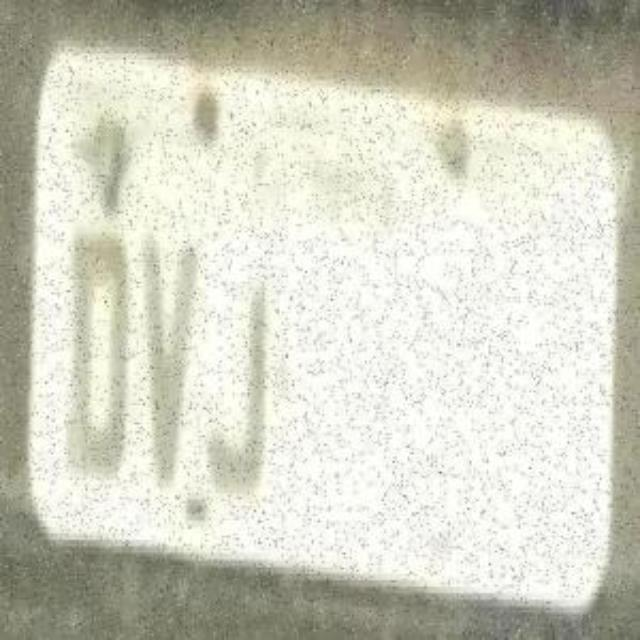License Plate: (44, 47, 632, 616)
